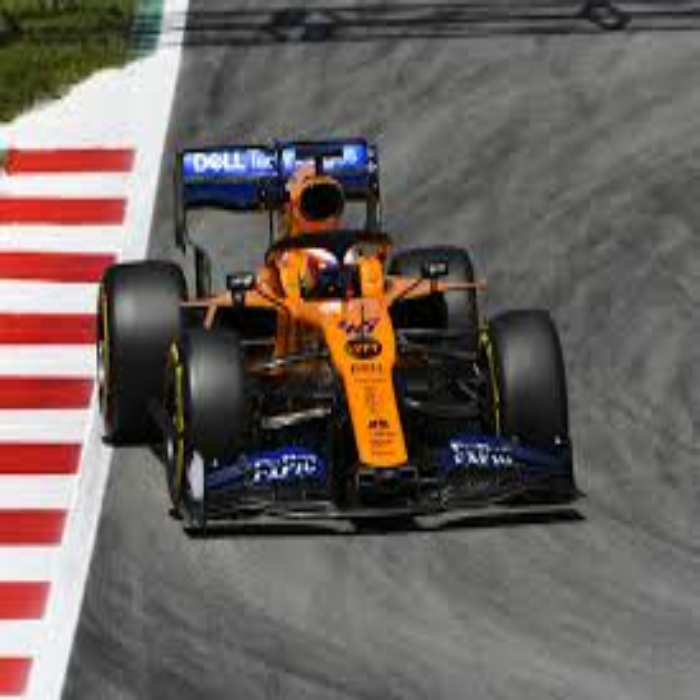f1_car: (70, 135, 639, 538)
